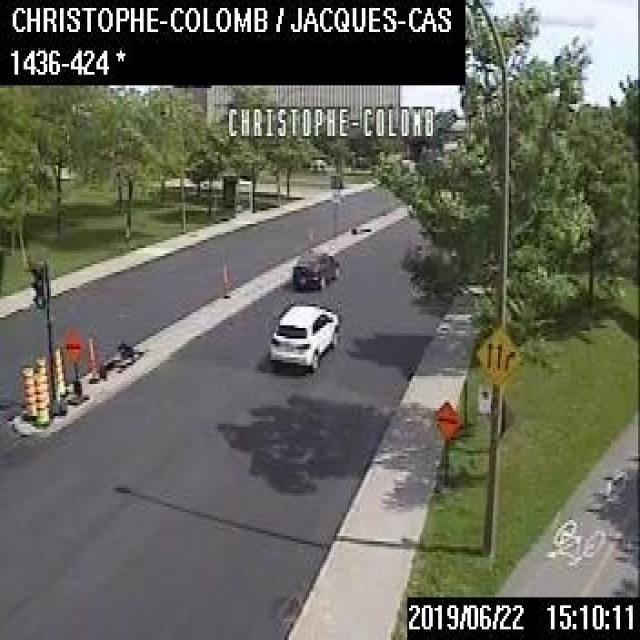construction: (433, 400, 458, 482), (62, 327, 83, 394), (20, 363, 35, 417), (34, 370, 48, 424), (53, 344, 67, 397), (33, 354, 48, 370)
vehicle: (268, 302, 338, 371), (291, 250, 339, 286)
